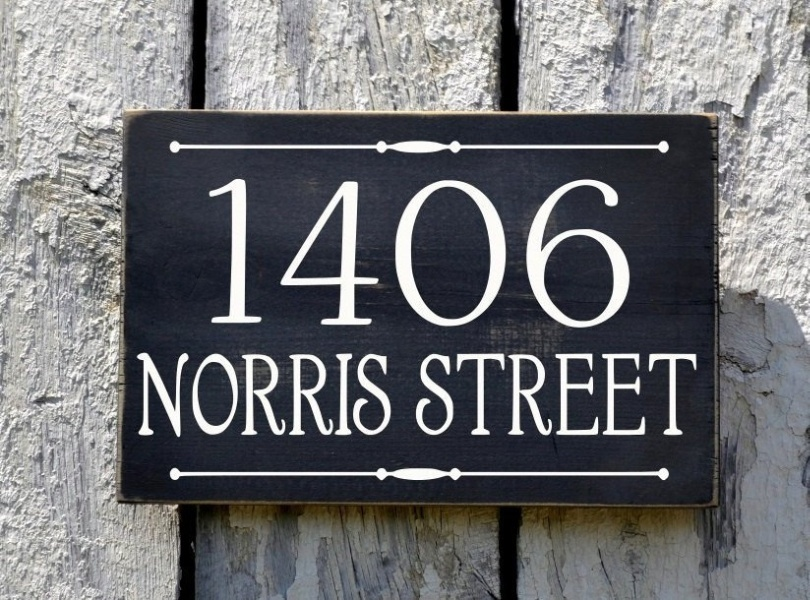text: (209, 179, 224, 328), (225, 179, 240, 328), (241, 179, 256, 328), (257, 179, 272, 328), (273, 179, 288, 328), (289, 179, 304, 328), (305, 179, 320, 328), (321, 179, 336, 328), (337, 179, 352, 328), (353, 179, 368, 328), (369, 179, 384, 328), (385, 179, 400, 328), (401, 179, 416, 328), (417, 179, 432, 328), (433, 179, 448, 328), (449, 179, 464, 328), (465, 179, 480, 328), (481, 179, 496, 328), (497, 179, 512, 328), (513, 179, 528, 328), (529, 179, 544, 328), (545, 179, 560, 328), (561, 179, 576, 328), (577, 179, 592, 328), (593, 179, 608, 328), (609, 179, 624, 328), (145, 352, 160, 439), (161, 352, 176, 439), (177, 352, 192, 439), (193, 352, 208, 439), (209, 352, 224, 439), (225, 352, 240, 439), (241, 352, 256, 439), (257, 352, 272, 439), (273, 352, 288, 439), (289, 352, 304, 439), (305, 352, 320, 439), (321, 352, 336, 439), (337, 352, 352, 439), (353, 352, 368, 439), (369, 352, 384, 439), (417, 352, 432, 437), (433, 352, 448, 437), (449, 352, 464, 437), (465, 352, 480, 437), (481, 352, 496, 437), (497, 352, 512, 437), (513, 352, 528, 437), (529, 352, 544, 437), (545, 352, 560, 437), (561, 352, 576, 437), (577, 352, 592, 437), (593, 352, 608, 437), (609, 352, 624, 437), (625, 352, 640, 437), (641, 352, 656, 437), (657, 352, 672, 437), (673, 352, 688, 437), (625, 179, 632, 328), (689, 352, 699, 437), (385, 352, 394, 439), (138, 352, 144, 439), (415, 352, 416, 437)
